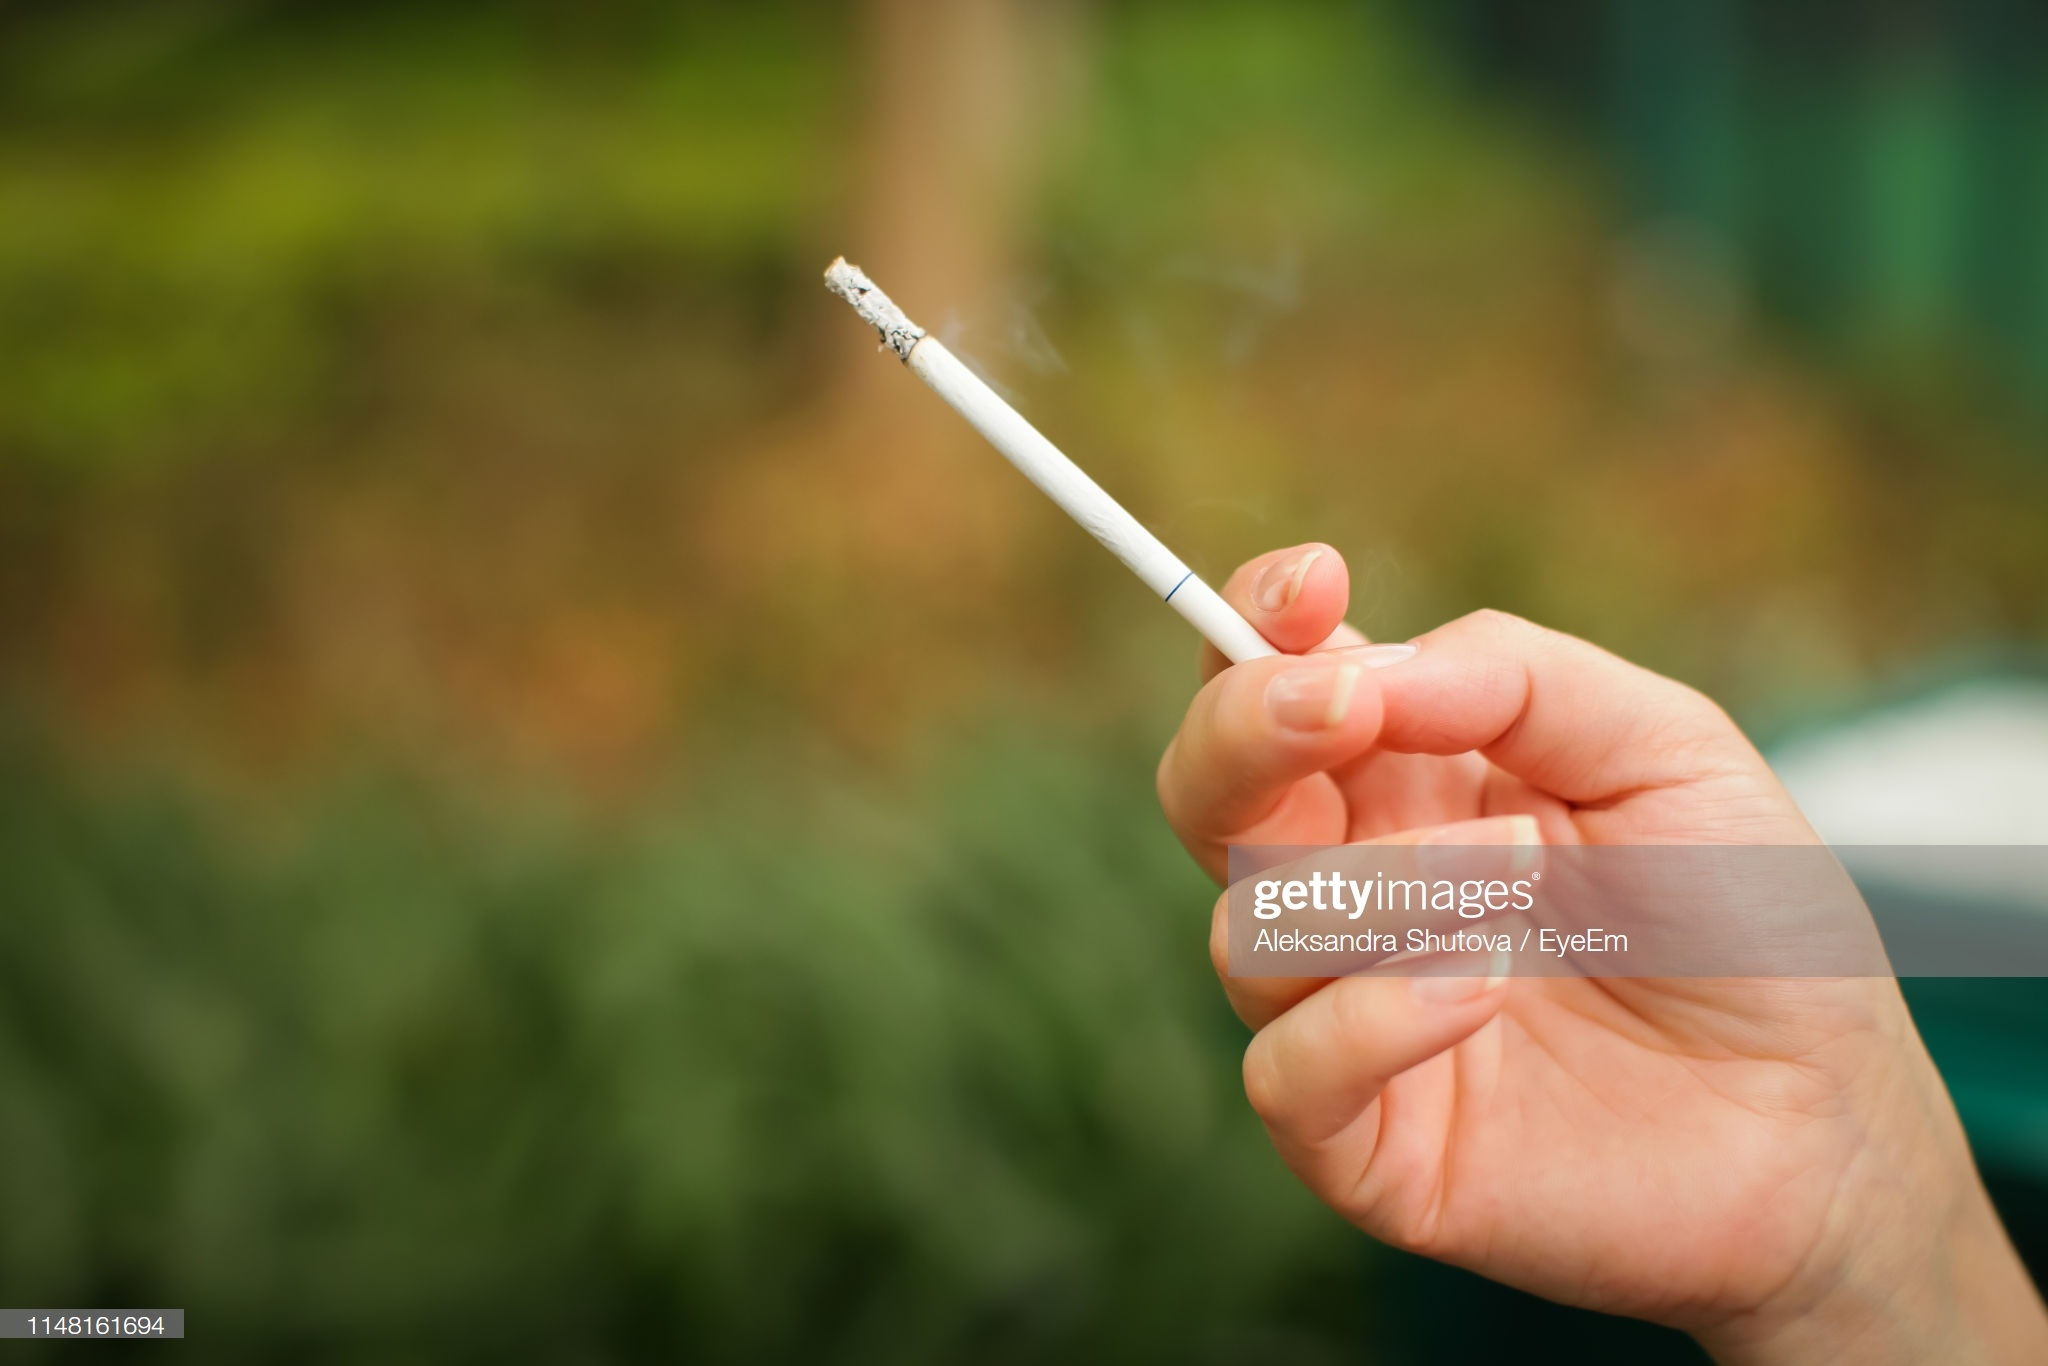sigaretta: (847, 264, 1317, 715)
